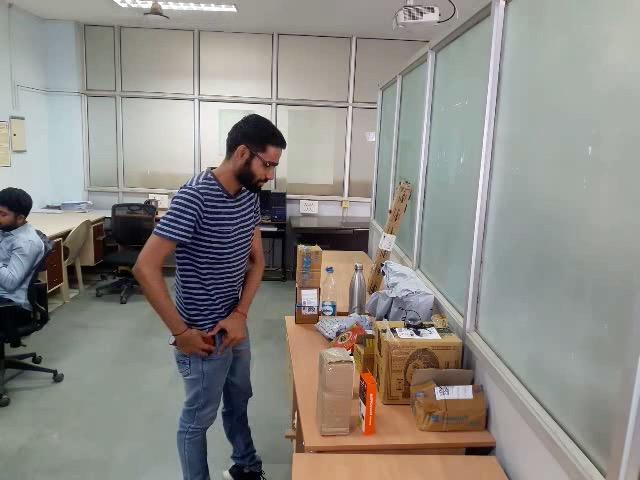shoplifting: (144, 314, 267, 396)
